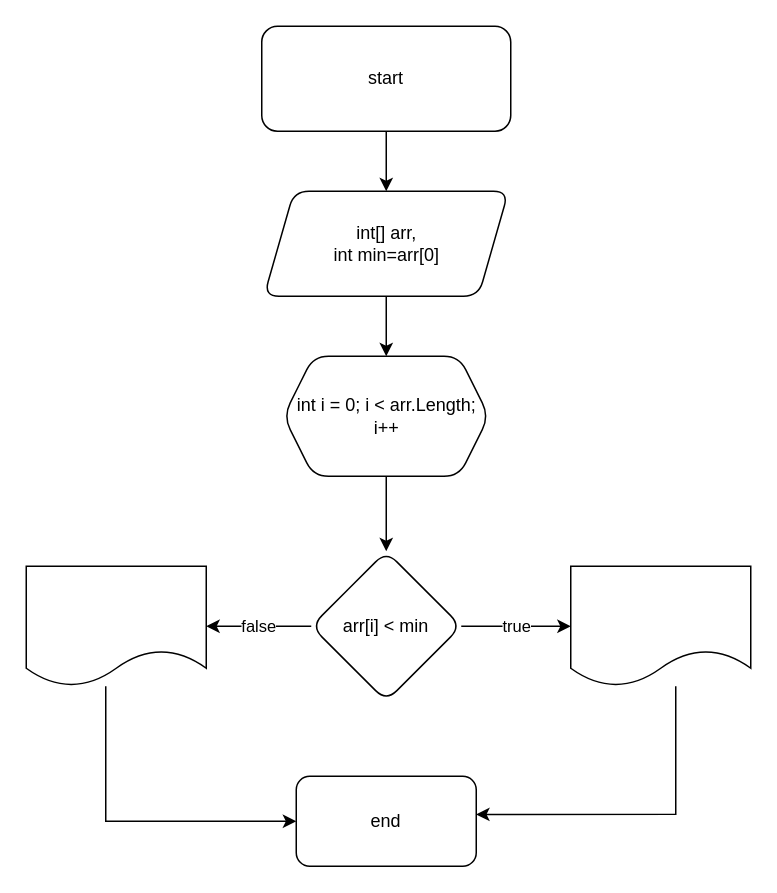
The diagram is 777 pixels wide and 893 high, and some of its shapes have lost their labels. The shapes that lost their labels are listed below. From the top down, each one's centre as x and y in pixels, then its label:
the point at 115,625: min=arr[0]
the point at 660,625: min = arr[i]
